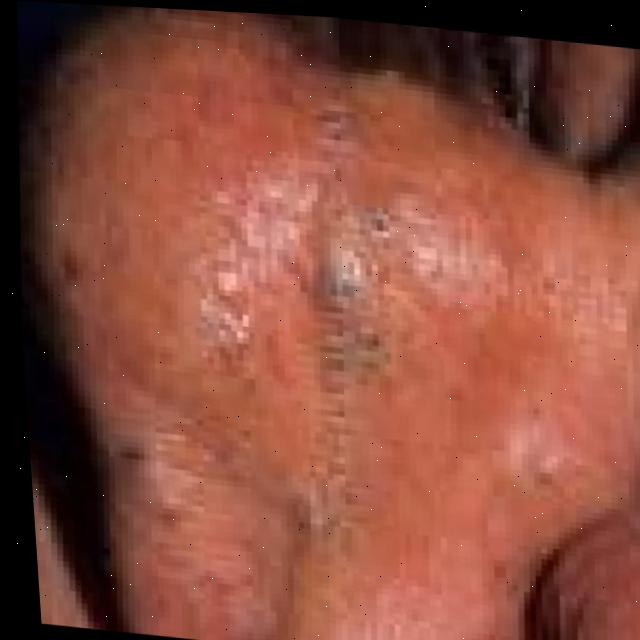Melasma: (290, 237, 406, 379)
